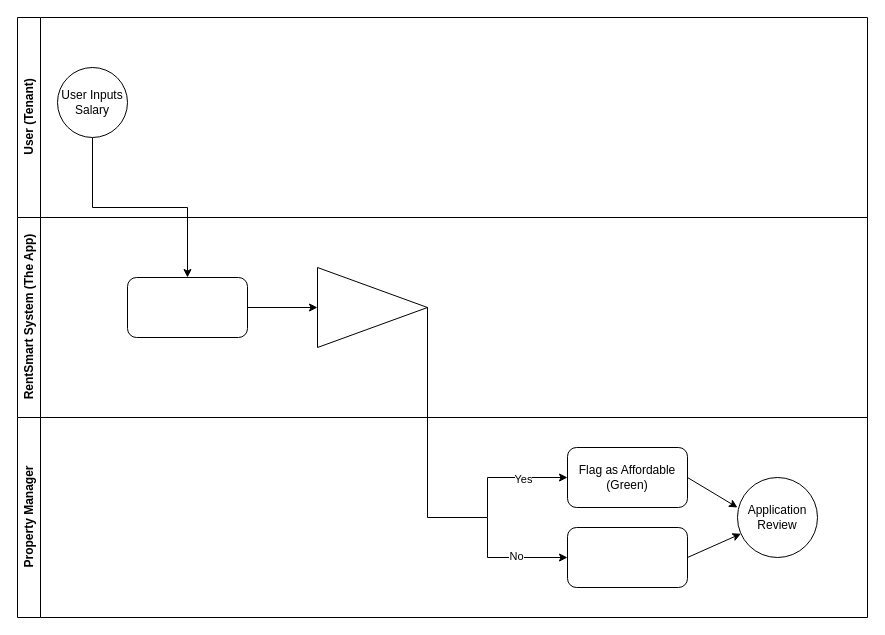
Image size: 885x635. Some labels were removed from this diagram. The shapes that lost their labels are listed below. From the top down, each one's box as (x1, y1, x2, y2) in pixels, then its label:
(126, 276, 248, 338): Calculate 30% Threshold
(316, 266, 428, 348): Is Rent < Threshold?
(566, 526, 688, 588): Flag as Risk (Red)
